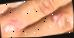plaque psoriasis: (1, 23, 15, 36)
